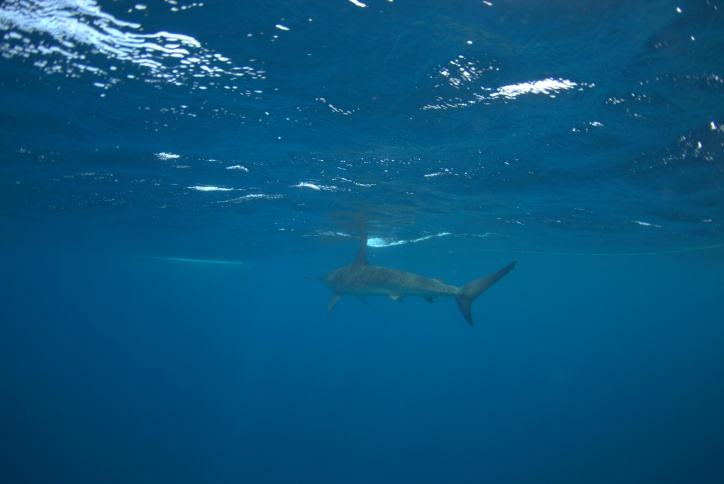Hammer: (295, 232, 541, 363)
